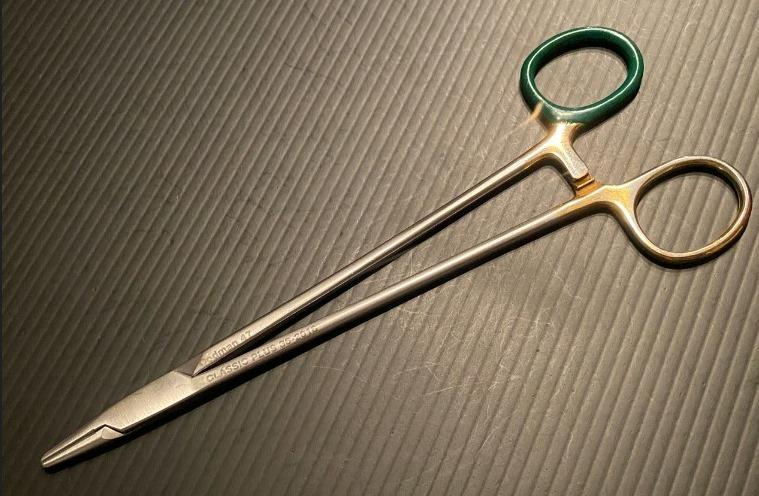Needle Holder: (29, 25, 755, 484)
